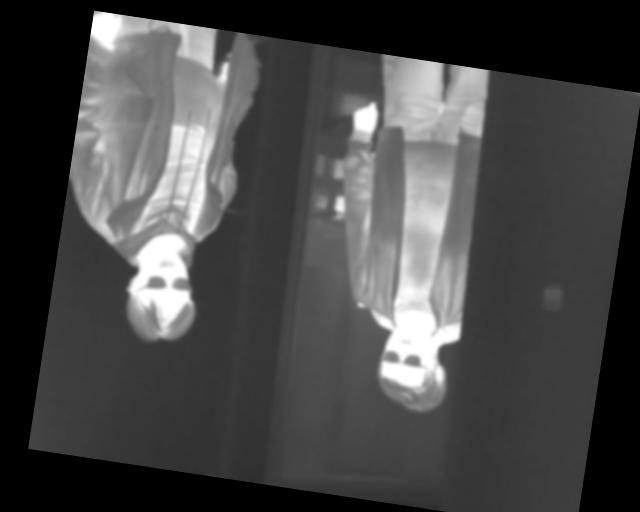face: (118, 243, 203, 349), (374, 318, 443, 408)
